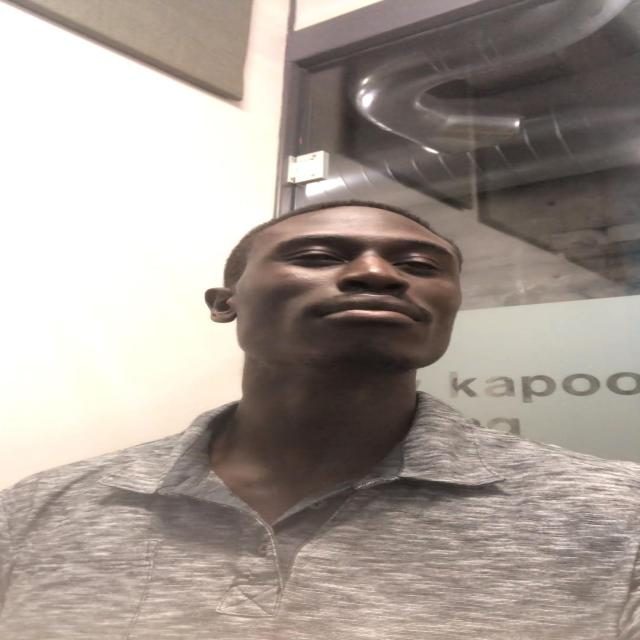face: (238, 218, 464, 369)
